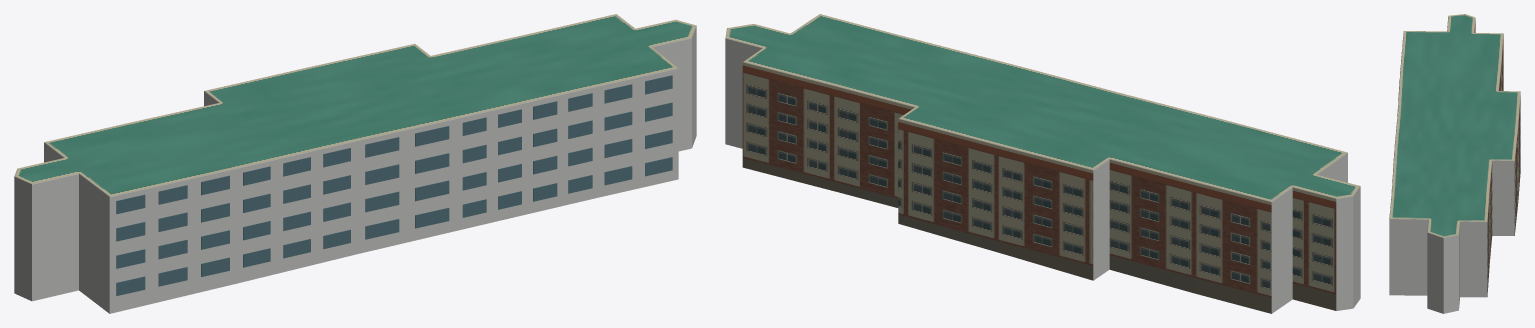
Rendered from fragments.glb.
3 views of the same model, side by side, from view 1: azimuth 30°, elevation 25°; view 2: azimuth 150°, elevation 25°; view 3: azimuth 270°, elevation 25° (orthographic). The views are drawn at different scales.
Visible parts, largest first — view 1: SM_dorm-b_Fragment_011, SM_dorm-b_Fragment_012, SM_dorm-b_Fragment_016, SM_dorm-b_Fragment_041, SM_dorm-b_Fragment_022, SM_dorm-b_Fragment_025, SM_dorm-b_Fragment_031, SM_dorm-b_Fragment_056, SM_dorm-b_Fragment_032, SM_dorm-b_Fragment_004, SM_dorm-b_Fragment_058, SM_dorm-b_Fragment_010 (+26 smaller); view 2: SM_dorm-b_Fragment_008, SM_dorm-b_Fragment_005, SM_dorm-b_Fragment_045, SM_dorm-b_Fragment_037, SM_dorm-b_Fragment_029, SM_dorm-b_Fragment_002, SM_dorm-b_Fragment_019, SM_dorm-b_Fragment_009, SM_dorm-b_Fragment_021, SM_dorm-b_Fragment_022, SM_dorm-b_Fragment_048, SM_dorm-b_Fragment_007 (+25 smaller); view 3: SM_dorm-b_Fragment_014, SM_dorm-b_Fragment_003, SM_dorm-b_Fragment_021, SM_dorm-b_Fragment_010, SM_dorm-b_Fragment_026, SM_dorm-b_Fragment_027, SM_dorm-b_Fragment_061, SM_dorm-b_Fragment_032, SM_dorm-b_Fragment_039, SM_dorm-b_Fragment_018, SM_dorm-b_Fragment_053, SM_dorm-b_Fragment_048 (+21 smaller).
Boxes of the visible parts, x1,y1,x2,y2 form: SM_dorm-b_Fragment_011: [604, 71, 678, 194]; SM_dorm-b_Fragment_012: [146, 152, 235, 266]; SM_dorm-b_Fragment_016: [201, 138, 319, 219]; SM_dorm-b_Fragment_041: [86, 168, 162, 270]; SM_dorm-b_Fragment_022: [14, 170, 96, 273]; SM_dorm-b_Fragment_025: [308, 114, 409, 192]; SM_dorm-b_Fragment_031: [174, 210, 270, 297]; SM_dorm-b_Fragment_056: [533, 111, 610, 201]; SM_dorm-b_Fragment_032: [542, 52, 654, 122]; SM_dorm-b_Fragment_004: [283, 169, 377, 258]; SM_dorm-b_Fragment_058: [457, 136, 531, 228]; SM_dorm-b_Fragment_010: [459, 63, 560, 141]; SM_dorm-b_Fragment_008: [1216, 176, 1340, 253]; SM_dorm-b_Fragment_005: [1121, 154, 1198, 256]; SM_dorm-b_Fragment_045: [1051, 139, 1143, 229]; SM_dorm-b_Fragment_037: [1221, 232, 1311, 313]; SM_dorm-b_Fragment_029: [944, 171, 1029, 258]; SM_dorm-b_Fragment_002: [914, 115, 999, 188]; SM_dorm-b_Fragment_019: [1139, 220, 1226, 301]; SM_dorm-b_Fragment_009: [1018, 207, 1107, 280]; SM_dorm-b_Fragment_021: [867, 87, 932, 179]; SM_dorm-b_Fragment_022: [1301, 180, 1360, 284]; SM_dorm-b_Fragment_048: [742, 57, 851, 114]; SM_dorm-b_Fragment_007: [786, 79, 860, 159]; SM_dorm-b_Fragment_014: [1389, 198, 1480, 245]; SM_dorm-b_Fragment_003: [1427, 235, 1459, 313]; SM_dorm-b_Fragment_021: [1464, 153, 1515, 222]; SM_dorm-b_Fragment_010: [1392, 155, 1465, 184]; SM_dorm-b_Fragment_026: [1432, 44, 1502, 82]; SM_dorm-b_Fragment_027: [1465, 231, 1488, 297]; SM_dorm-b_Fragment_061: [1418, 76, 1480, 103]; SM_dorm-b_Fragment_032: [1390, 180, 1450, 210]; SM_dorm-b_Fragment_039: [1430, 133, 1497, 164]; SM_dorm-b_Fragment_018: [1425, 102, 1484, 131]; SM_dorm-b_Fragment_053: [1454, 109, 1519, 142]; SM_dorm-b_Fragment_048: [1446, 188, 1489, 235].
Bounding box in the file's own units: 2.2 × 0.3698 × 0.546.
Materials: 6 (2 with a texture image).
